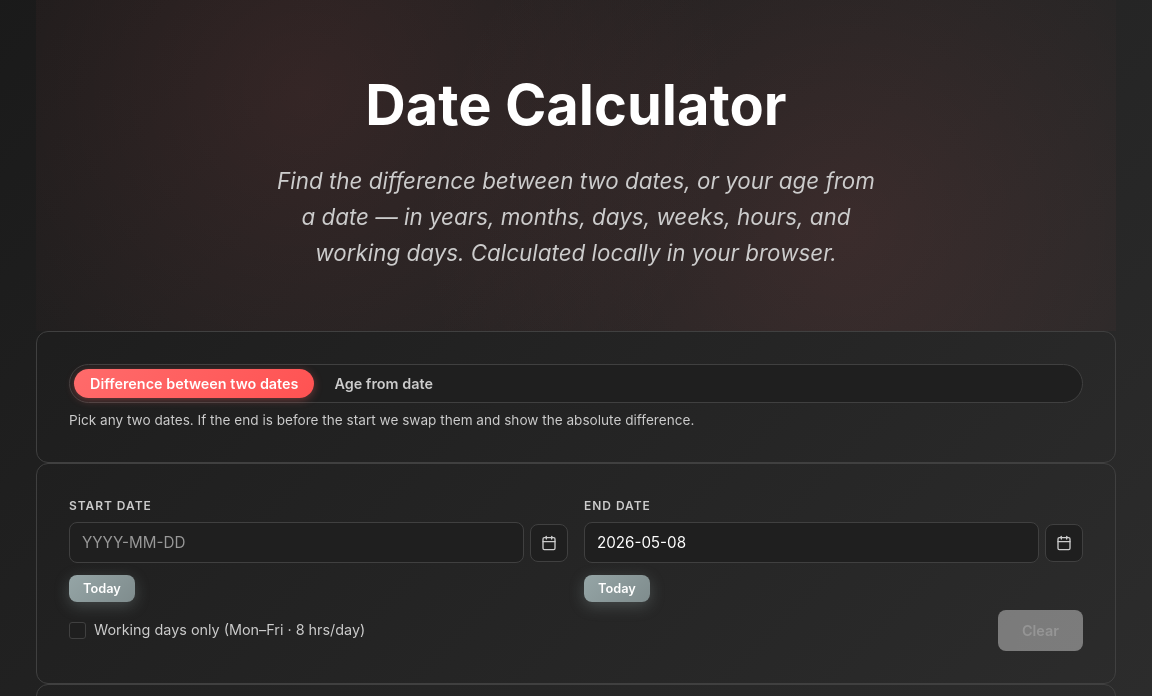
Test: <DateCalculator /> — difference computation › shows years/months/days breakdown for a one-year span
Type "2024-01-15" into the field labelled "Start date". click: (296, 542)
box: [69,522,524,563]
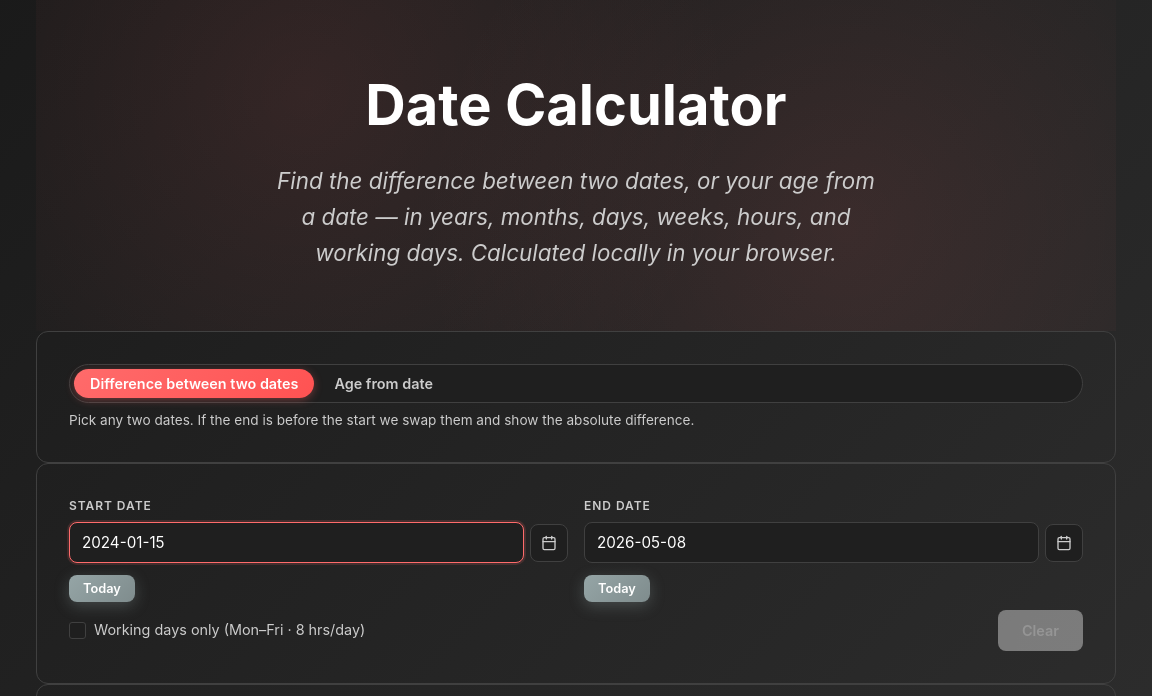
Press Tab
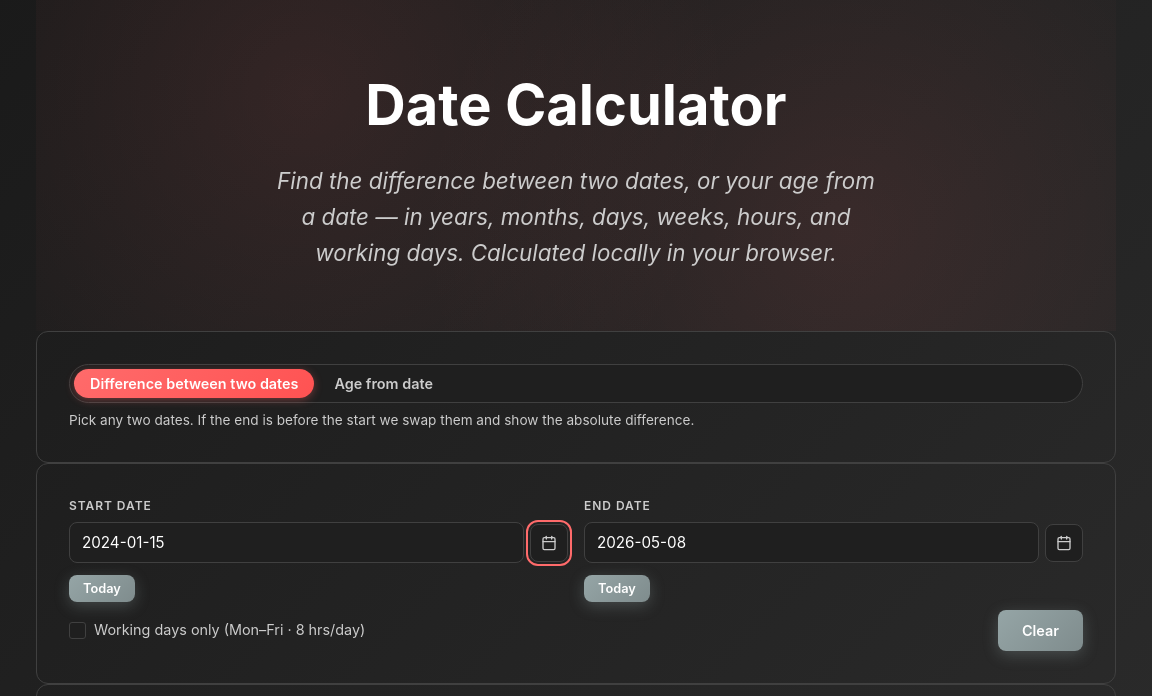
Replace the text in the field labelled "End date" with "2025-01-15". click: (811, 542)
box: [584,522,1039,563]
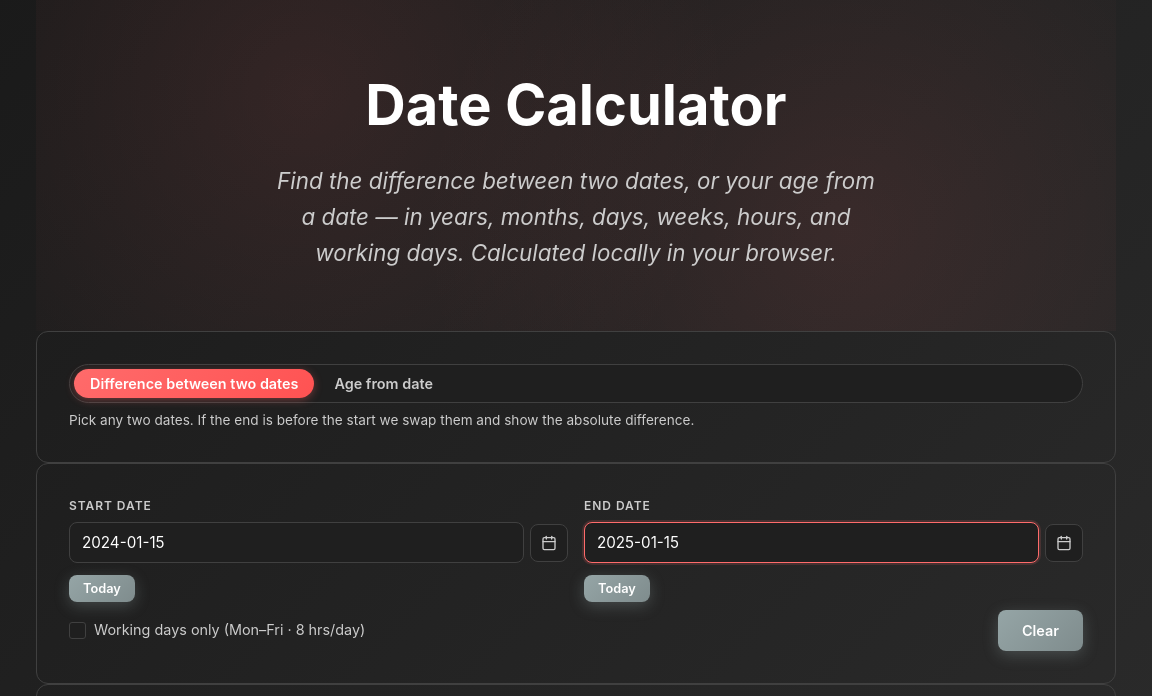
Press Tab
(page scrolled)
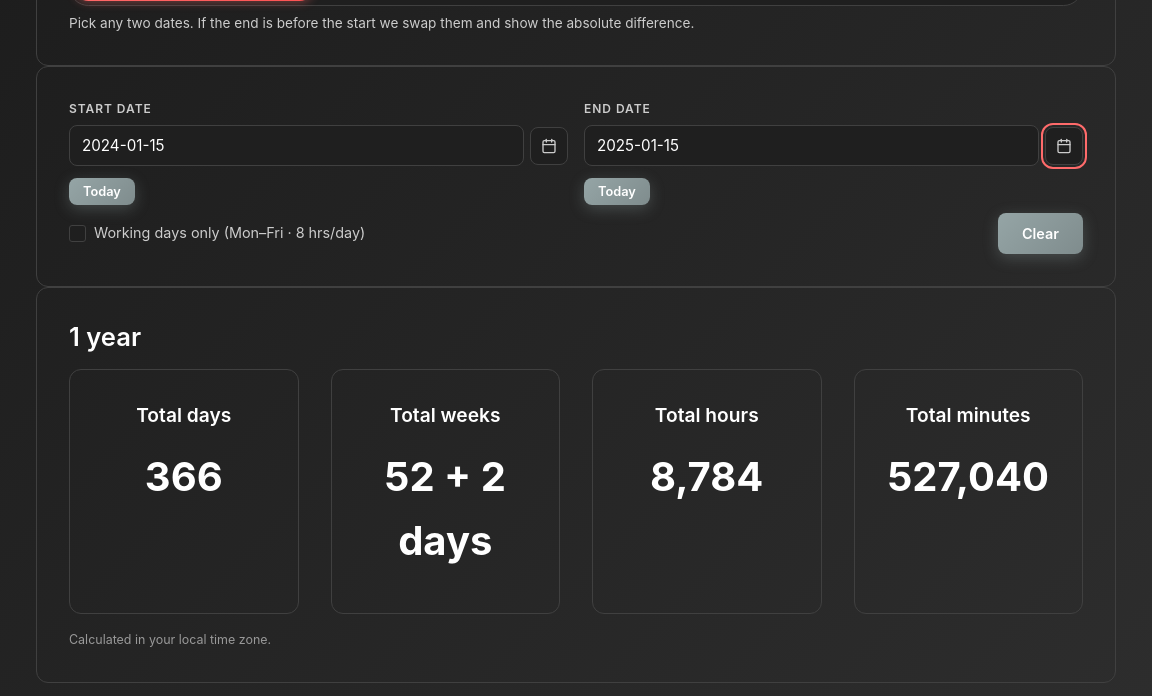
Expected: the text "1 year" is shown, [69,321,141,352]
